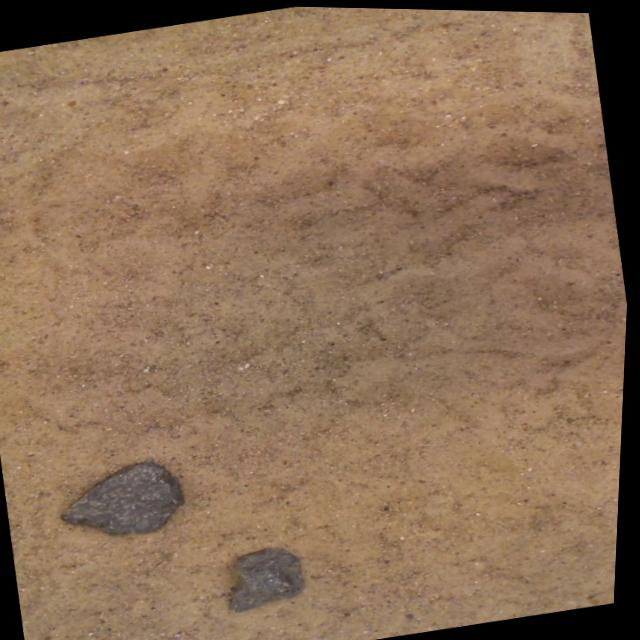rock: (64, 460, 186, 533), (234, 546, 307, 610)
